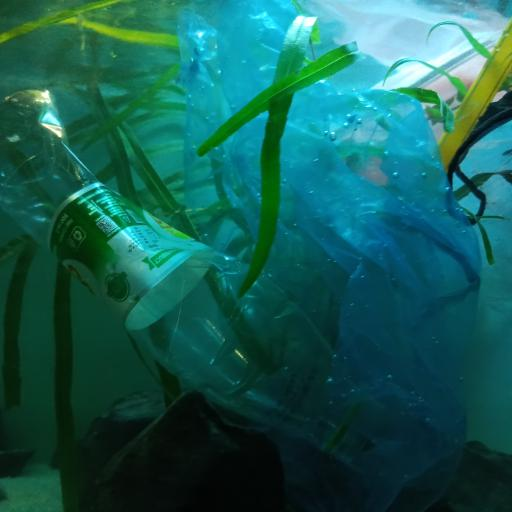mask: (372, 38, 512, 139), (445, 94, 512, 222)
plastic_bag: (174, 2, 486, 503)
plastic_bottle: (0, 88, 381, 460)
plastic_straw: (437, 16, 512, 168)
